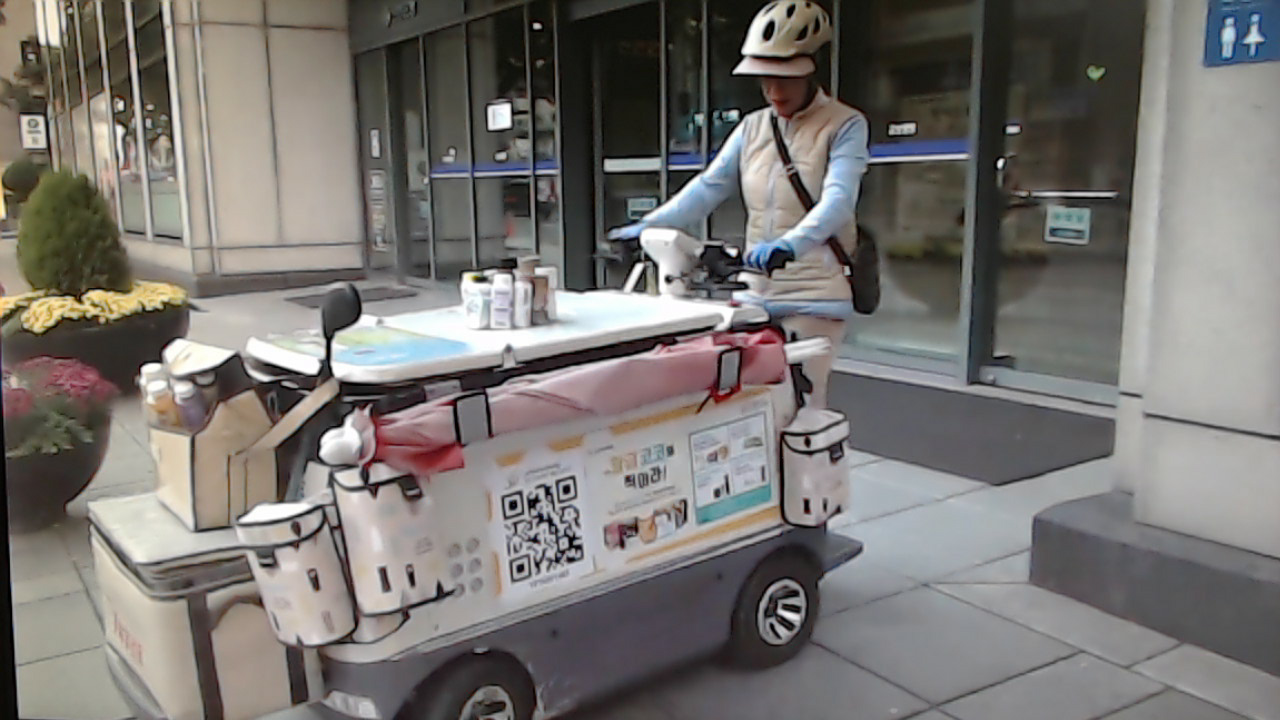Yakurut: (603, 3, 909, 496)
